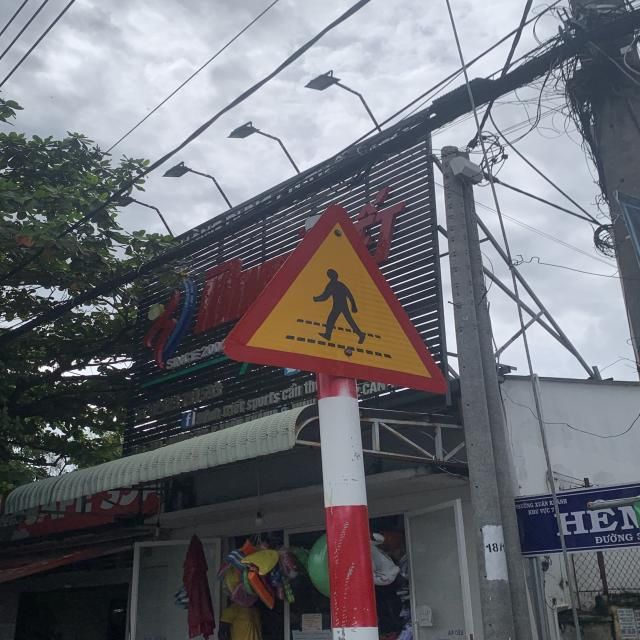Duong_Nguoi_Di_Bo_Sang_Ngang: (222, 202, 450, 391)
